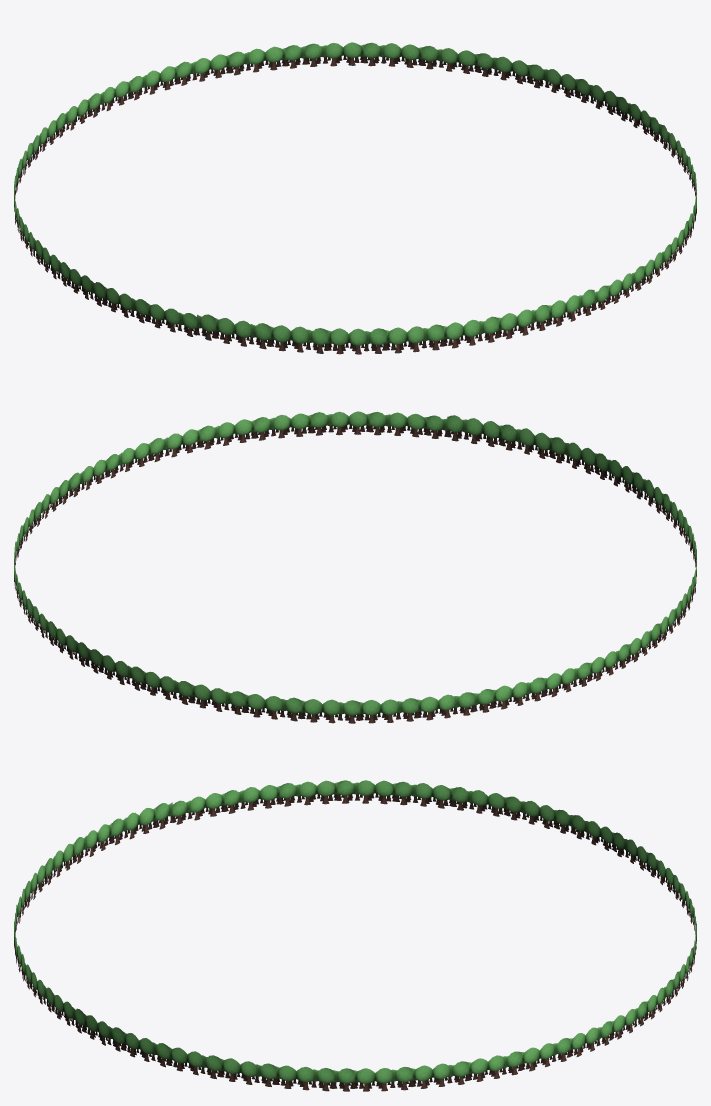
Rendered from Forest.obj.
3 renders of one model, top to bottom at view 1: azimuth 30°, elevation 25°; view 2: azimuth 150°, elevation 25°; view 3: azimuth 270°, elevation 25°, orthographic.
Parts seen in each view (by area): view 1: Cylinder; view 2: Cylinder; view 3: Cylinder.
Boxes of the visible parts, left/top/right/bottom form: Cylinder: left=14, top=42, right=696, bottom=354; Cylinder: left=14, top=411, right=696, bottom=723; Cylinder: left=14, top=780, right=696, bottom=1091.
Bounding box in the file's own units: 149 × 12.48 × 149.
1 material, 1 textured.
